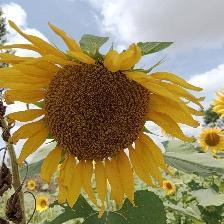sunflower: (1, 18, 206, 219)
